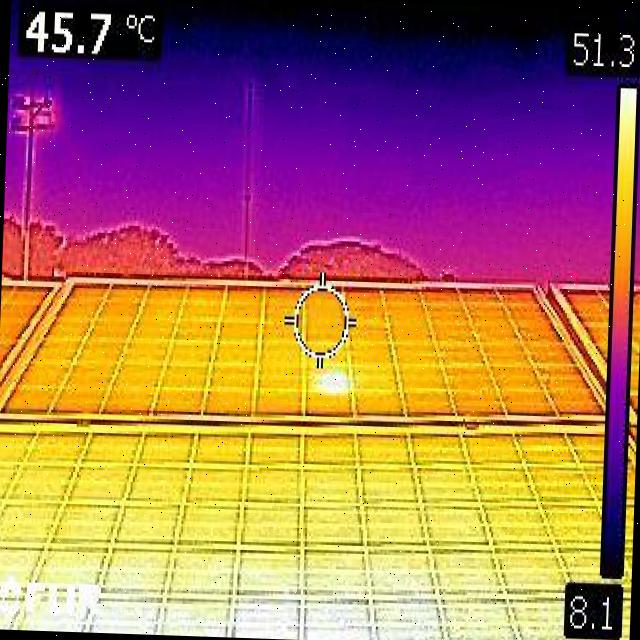Hotspot: (309, 367, 348, 388)
